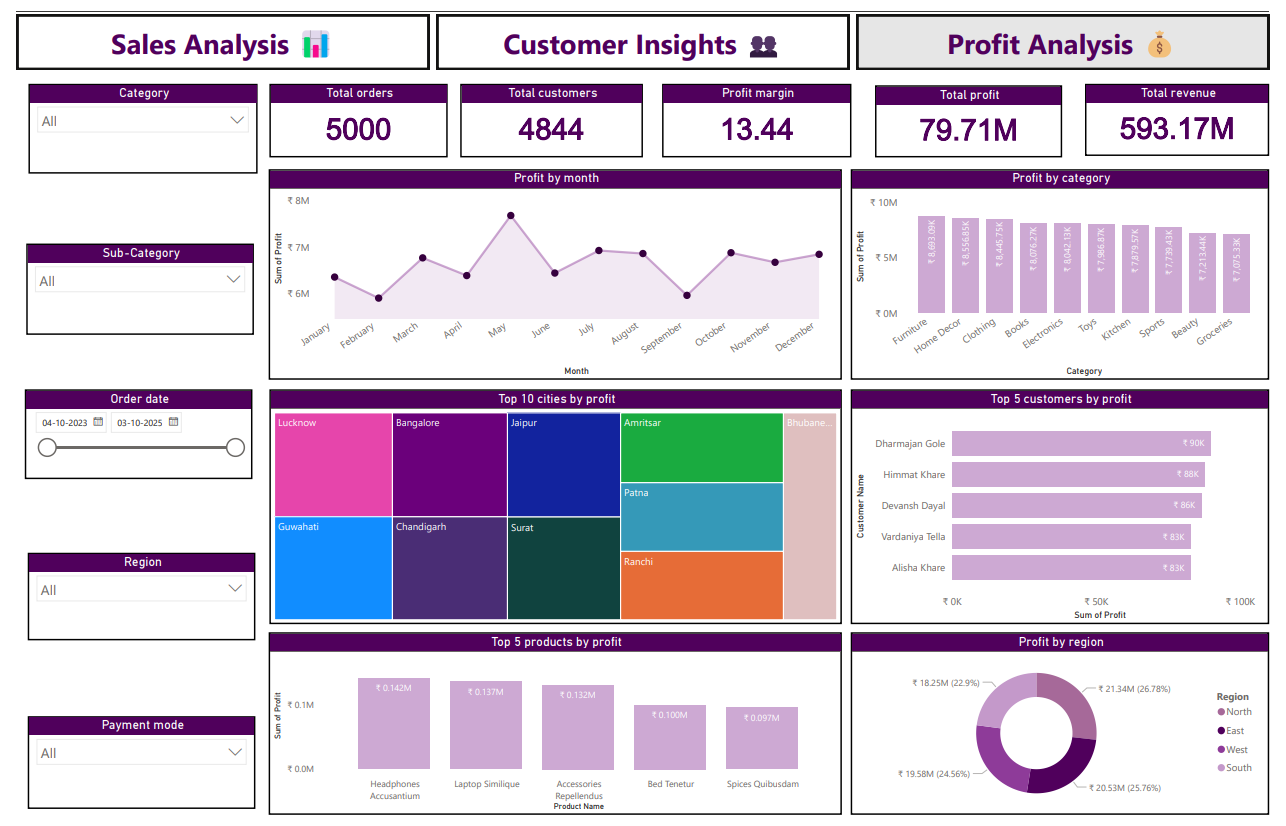

Layout of this report page (visuals, bound fields, positions):
{"tool":"powerbi","page":{"name":"Profit Analysis 💰","canvas":[1700,1100],"ordinal":2},"visuals":[{"type":"donutChart","title":"Profit by region","fields":{"Category":["Ecommerce_Sales_Data_2024_2025.Region"],"Y":["Sum(Ecommerce_Sales_Data_2024_2025.Profit)"]},"box":[1132.4,843.2,567.6,247.3],"z":0},{"type":"treemap","title":"Top 10 cities by profit","fields":{"Group":["Ecommerce_Sales_Data_2024_2025.City"],"Values":["Sum(Ecommerce_Sales_Data_2024_2025.Profit)"]},"box":[343.5,513,776.8,318.8],"z":1000},{"type":"pageNavigator","box":[0,3.8,1700,75],"z":2000},{"type":"card","title":"Total orders","fields":{"Values":["Count(Ecommerce_Sales_Data_2024_2025.Order ID)"]},"box":[342.6,98.1,242.6,100],"z":3000},{"type":"card","title":"Total customers","fields":{"Values":["Count(Ecommerce_Sales_Data_2024_2025.Customer Name)"]},"box":[601.9,98.1,248.1,100],"z":4000},{"type":"card","title":"Profit margin","fields":{"Values":["Ecommerce_Sales_Data_2024_2025.Profit Margin"]},"box":[875.9,98.1,257.4,100],"z":5000},{"type":"card","title":"Total profit","fields":{"Values":["Sum(Ecommerce_Sales_Data_2024_2025.Profit)"]},"box":[1164.8,100,253.7,98.1],"z":6000},{"type":"card","title":"Total revenue","fields":{"Values":["Ecommerce_Sales_Data_2024_2025.Total Revenue"]},"box":[1450,98.1,250,98.1],"z":7000},{"type":"slicer","title":"Category","fields":{"Values":["Ecommerce_Sales_Data_2024_2025.Category"]},"box":[15.6,97.8,311.1,122.2],"z":8000},{"type":"slicer","title":"Sub-Category","fields":{"Values":["Ecommerce_Sales_Data_2024_2025.Sub-Category"]},"box":[13,315.2,308.7,123.9],"z":9000},{"type":"slicer","title":"Order date","fields":{"Values":["Ecommerce_Sales_Data_2024_2025.Order Date"]},"box":[10.9,513,308.7,121.7],"z":10000},{"type":"slicer","title":"Region","fields":{"Values":["Ecommerce_Sales_Data_2024_2025.Region"]},"box":[15.2,734.8,308.7,119.6],"z":11000},{"type":"slicer","title":"Payment mode","fields":{"Values":["Ecommerce_Sales_Data_2024_2025.Payment Mode"]},"box":[15.2,956.5,308.7,126.1],"z":12000},{"type":"lineChart","title":"Profit by month","fields":{"Category":["Ecommerce_Sales_Data_2024_2025.Order Date.Variation.Date Hierarchy.Month"],"Y":["Sum(Ecommerce_Sales_Data_2024_2025.Profit)"]},"box":[342,213.6,777.8,286.4],"z":13000},{"type":"columnChart","title":" Profit by category","fields":{"Y":["Sum(Ecommerce_Sales_Data_2024_2025.Profit)"],"Category":["Ecommerce_Sales_Data_2024_2025.Category"]},"box":[1132.1,213.6,567.9,286.4],"z":14000},{"type":"columnChart","title":"Top 5 products by profit","fields":{"Category":["Ecommerce_Sales_Data_2024_2025.Product Name"],"Y":["Sum(Ecommerce_Sales_Data_2024_2025.Profit)"]},"box":[341.9,843.2,778.4,247.3],"z":15000},{"type":"clusteredBarChart","title":"Top 5 customers by profit","fields":{"Y":["Sum(Ecommerce_Sales_Data_2024_2025.Profit)"],"Category":["Ecommerce_Sales_Data_2024_2025.Customer Name"]},"box":[1131.9,513,568.1,318.8],"z":16000}]}

Visuals, with their boxes in screenshot pixels (x1, y1, x2, y2), scaled from the page's 1700x1100 canvas onto the 1286x826 screenshot:
"Profit by region" donutChart: 857 633 1285 819
"Top 10 cities by profit" treemap: 260 385 847 625
pageNavigator: 0 3 1285 59
"Total orders" card: 259 74 443 149
"Total customers" card: 455 74 643 149
"Profit margin" card: 663 74 857 149
"Total profit" card: 881 75 1073 149
"Total revenue" card: 1097 74 1285 147
"Category" slicer: 12 73 247 165
"Sub-Category" slicer: 10 237 243 330
"Order date" slicer: 8 385 242 477
"Region" slicer: 11 552 245 642
"Payment mode" slicer: 11 718 245 813
"Profit by month" lineChart: 259 160 847 375
" Profit by category" columnChart: 856 160 1285 375
"Top 5 products by profit" columnChart: 259 633 847 819
"Top 5 customers by profit" clusteredBarChart: 856 385 1285 625
